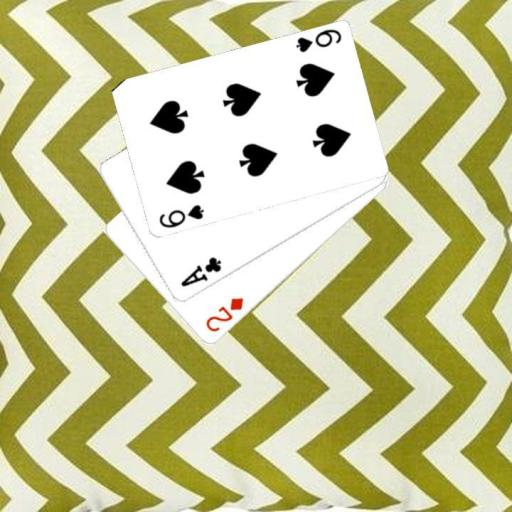2D: (202, 295, 245, 335)
6S: (292, 26, 343, 54), (156, 202, 206, 230)
AC: (177, 254, 223, 289)
